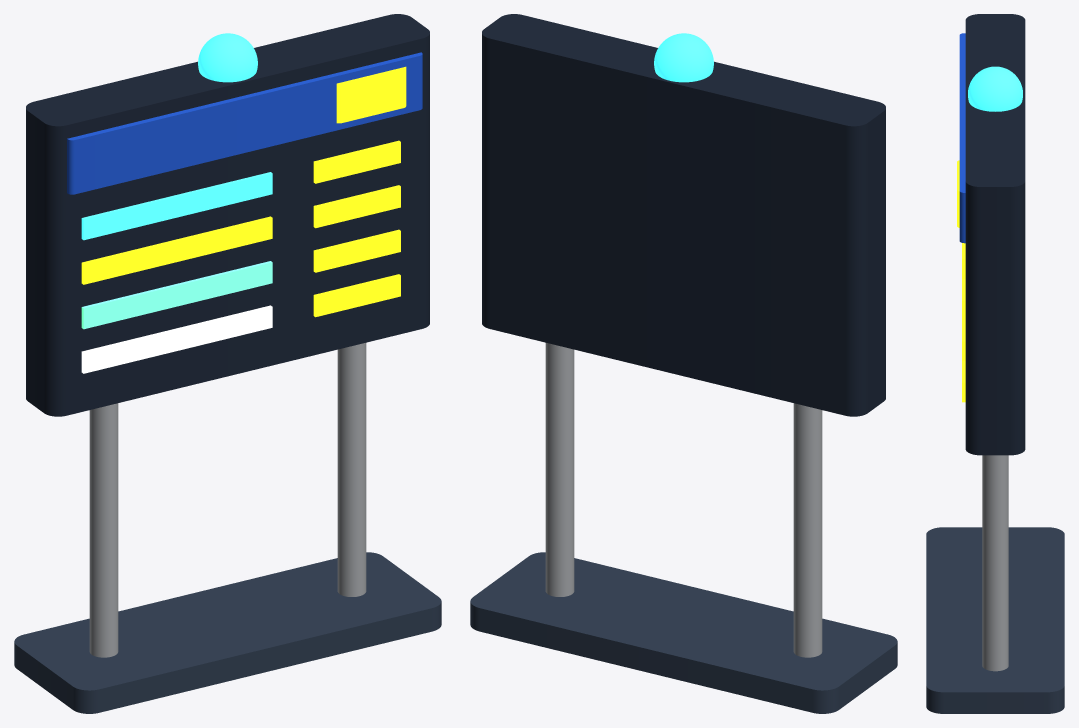
The model's file is departure_board.glb.
The picture shows the model from 3 angles, left to right: view 1: azimuth 30°, elevation 25°; view 2: azimuth 150°, elevation 25°; view 3: azimuth 270°, elevation 25°; orthographic projection. The views are drawn at different scales.
Visible parts, largest first — view 1: board_frame, base, header, post_L, post_R, row_l_2, row_l_0, row_l_1, row_l_3, gate_badge, beacon, row_r_0 (+3 smaller); view 2: board_frame, base, post_L, post_R, beacon; view 3: board_frame, base, post_R, beacon, header.
Boxes of the visible parts, x1=… form: board_frame: x1=26, y1=14, x2=429, y2=416; base: x1=14, y1=552, x2=441, y2=713; header: x1=67, y1=52, x2=422, y2=194; post_L: x1=89, y1=403, x2=118, y2=657; post_R: x1=337, y1=343, x2=366, y2=596; row_l_2: x1=81, y1=261, x2=272, y2=329; row_l_0: x1=81, y1=172, x2=272, y2=240; row_l_1: x1=81, y1=216, x2=272, y2=284; row_l_3: x1=81, y1=305, x2=272, y2=373; gate_badge: x1=336, y1=66, x2=406, y2=123; beacon: x1=198, y1=33, x2=257, y2=82; row_r_0: x1=313, y1=140, x2=400, y2=183; board_frame: x1=482, y1=14, x2=885, y2=416; base: x1=470, y1=552, x2=897, y2=713; post_L: x1=793, y1=403, x2=822, y2=657; post_R: x1=545, y1=343, x2=574, y2=596; beacon: x1=654, y1=33, x2=713, y2=82; board_frame: x1=965, y1=14, x2=1025, y2=455; base: x1=926, y1=527, x2=1064, y2=713; post_R: x1=982, y1=455, x2=1008, y2=671; beacon: x1=968, y1=66, x2=1022, y2=111; header: x1=959, y1=33, x2=965, y2=243.
Size of the model in its own units: 0.65 by 0.985 by 0.22.
